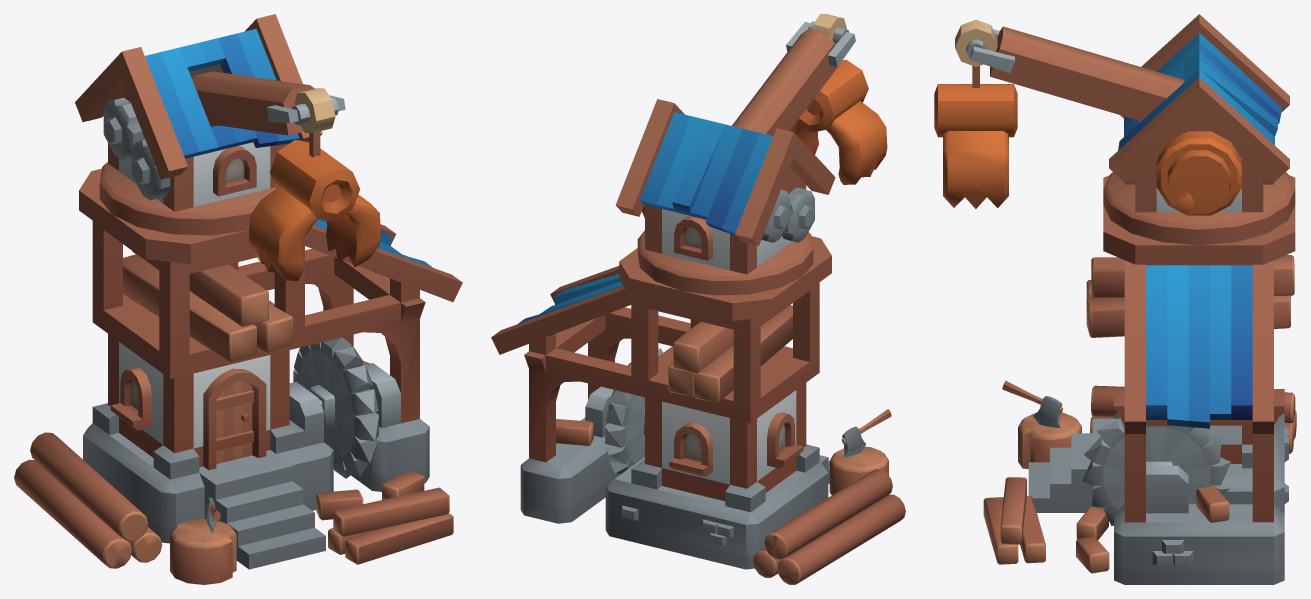
The model's file is building_lumbermill_blue.gltf.
3 renders of one model, left to right at view 1: azimuth 30°, elevation 25°; view 2: azimuth 150°, elevation 25°; view 3: azimuth 270°, elevation 25°, orthographic. The views are drawn at different scales.
Visible parts, largest first — view 1: building_lumbermill_blue, building_lumbermill_top_blue, building_lumbermill_saw_blue; view 2: building_lumbermill_blue, building_lumbermill_top_blue, building_lumbermill_saw_blue; view 3: building_lumbermill_blue, building_lumbermill_top_blue, building_lumbermill_saw_blue.
Part boxes in pixels (bbox=[...]): building_lumbermill_blue: bbox=[14, 168, 462, 584]; building_lumbermill_top_blue: bbox=[75, 14, 380, 280]; building_lumbermill_saw_blue: bbox=[293, 337, 378, 478]; building_lumbermill_blue: bbox=[491, 236, 905, 584]; building_lumbermill_top_blue: bbox=[615, 14, 887, 295]; building_lumbermill_saw_blue: bbox=[605, 348, 662, 474]; building_lumbermill_blue: bbox=[983, 175, 1296, 584]; building_lumbermill_top_blue: bbox=[934, 14, 1295, 245]; building_lumbermill_saw_blue: bbox=[1082, 417, 1231, 525].
Size of the model in its own units: 1.37 by 1.71 by 1.19.
Materials: 1 (1 with a texture image).
